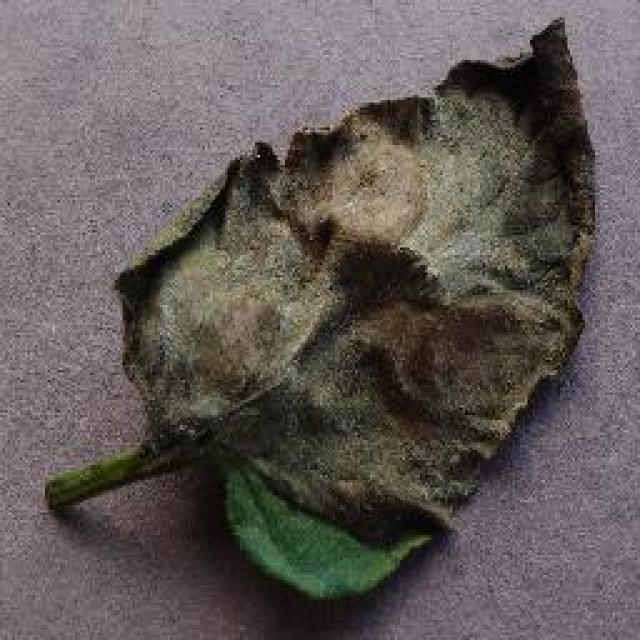Tomato Late Blight: (103, 172, 592, 486)
